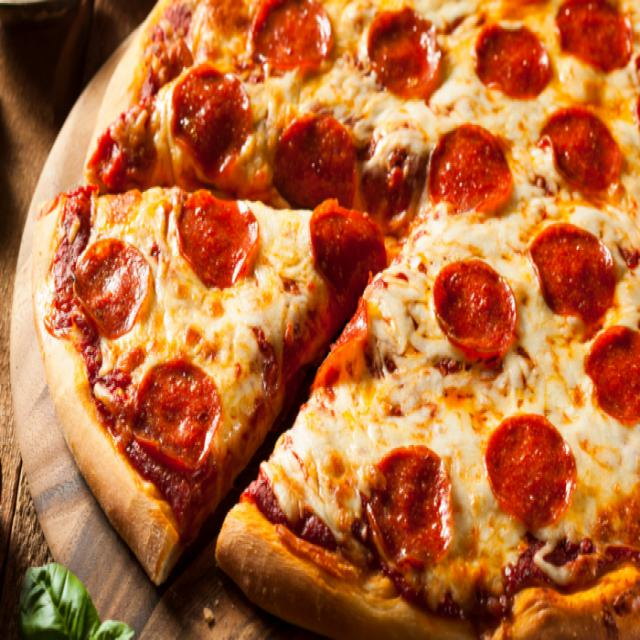pizza: (43, 0, 640, 639)
